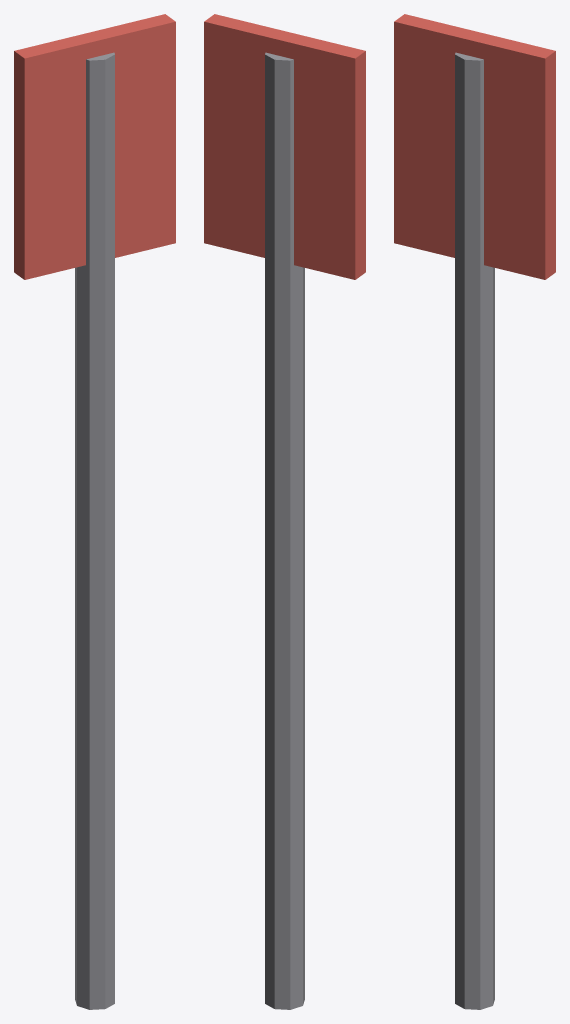
Rendered from no_parking_sign.glb.
3 renders of one model, left to right at view 1: azimuth 30°, elevation 25°; view 2: azimuth 150°, elevation 25°; view 3: azimuth 330°, elevation 25°, orthographic.
Visible parts, largest first — view 1: post, plate; view 2: post, plate; view 3: post, plate.
Part boxes in pixels (left/top/right/bottom): post: left=75, top=52, right=114, bottom=1009; plate: left=14, top=14, right=175, bottom=279; post: left=265, top=52, right=304, bottom=1009; plate: left=204, top=14, right=365, bottom=279; post: left=455, top=52, right=494, bottom=1009; plate: left=394, top=14, right=555, bottom=279.
Size of the model in its own units: 0.5 by 3.05 by 0.1191.
